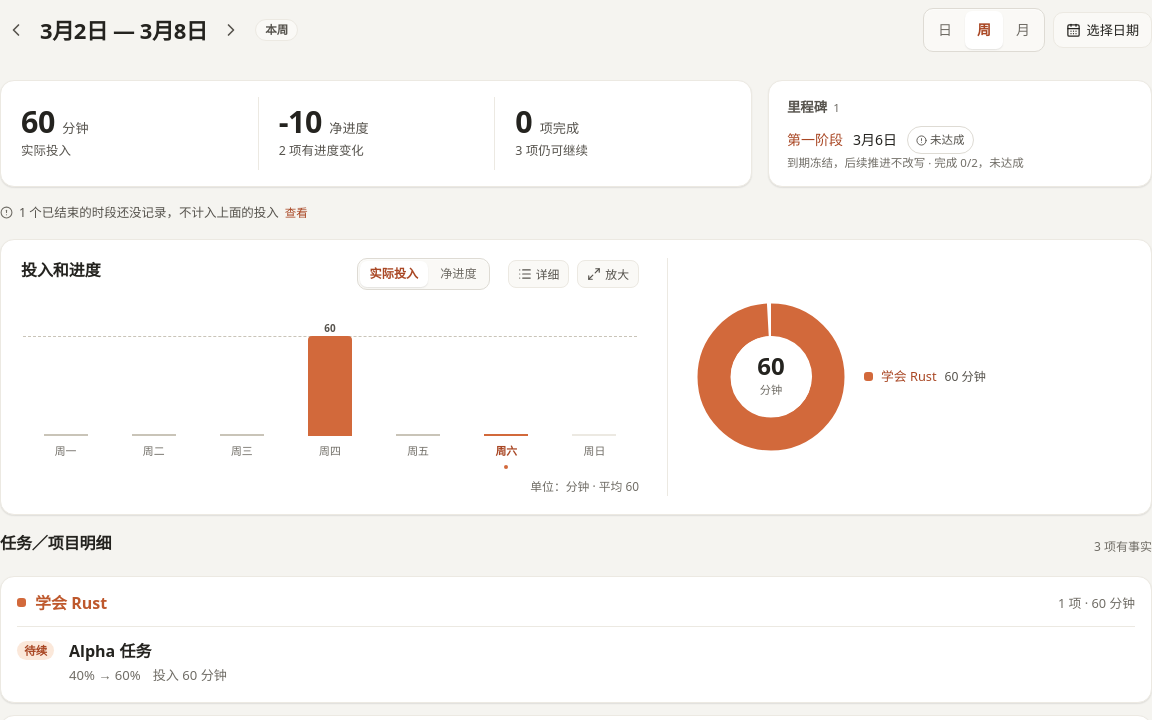
Scenario: review page › closes the list popover together with the detail opened from it
# 首屏「查看」开待回顾名单，名单里点任务名 → 明细叠在名单上面。
Click the button "查看": coordinates (296, 213) [285, 204, 308, 222]
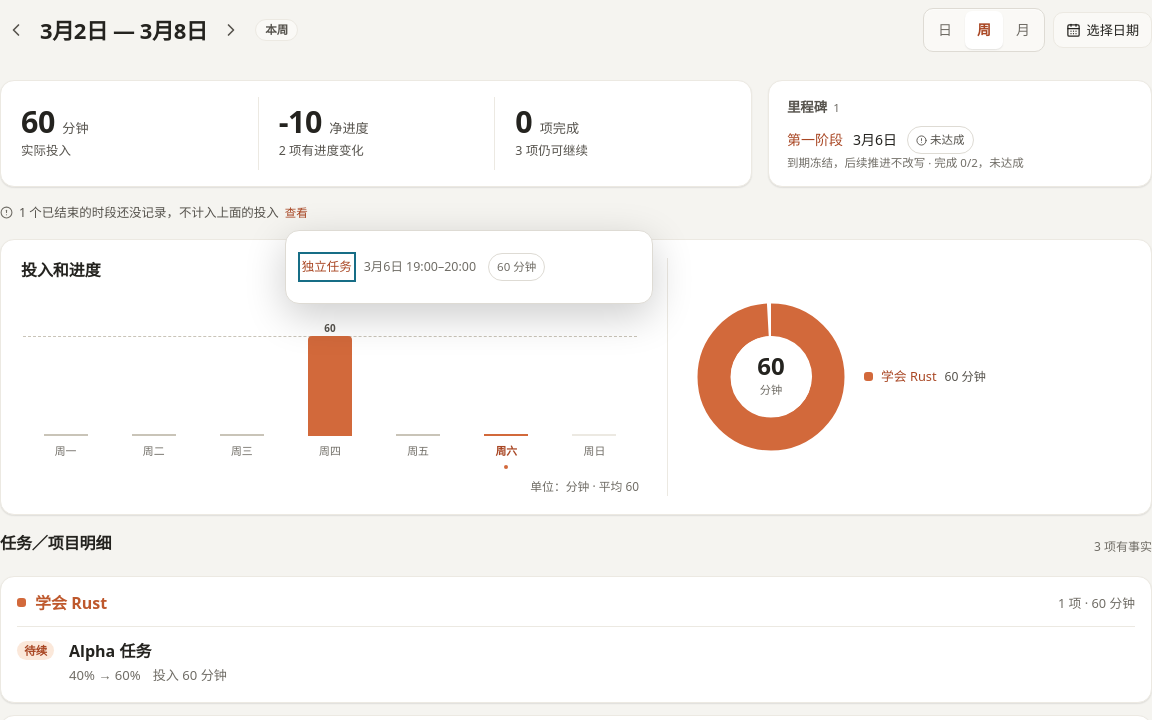
expect the dialog with class "review-headline-popover" is shown: met, box [285, 230, 653, 304]
Click the button with aria-label "查看任务「独立任务」的明细": coordinates (327, 267) [302, 256, 352, 278]
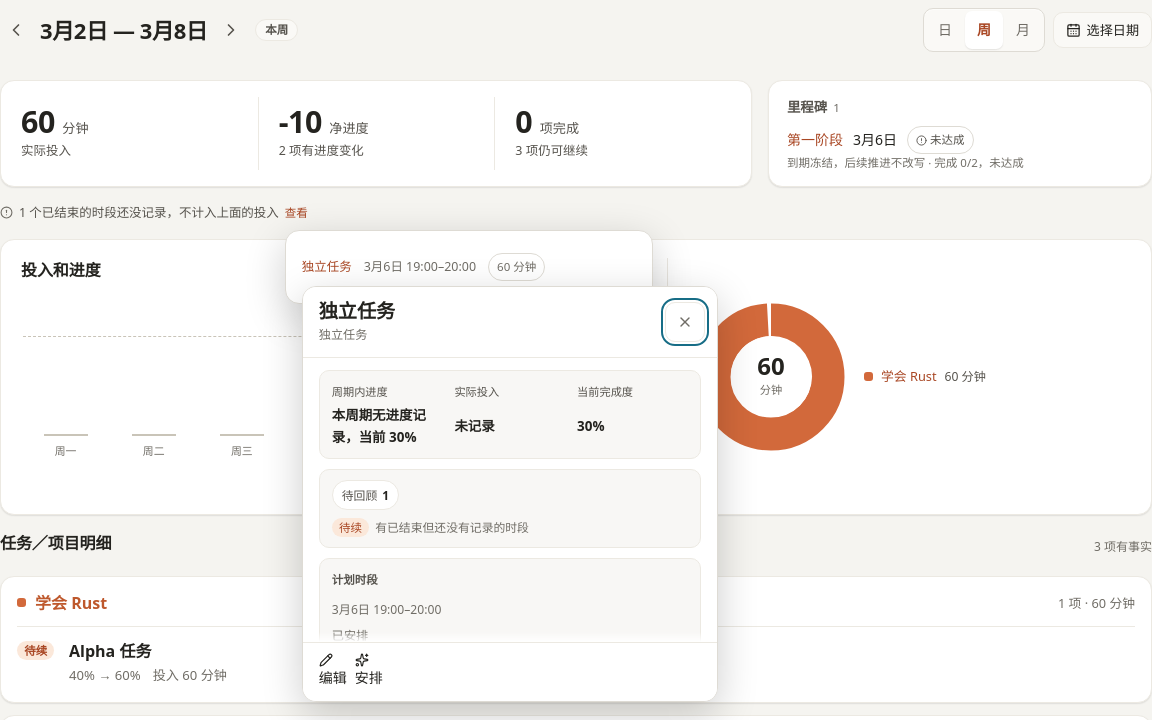
expect the number of dialogs with class "floating-panel" is 2: met, box [285, 230, 653, 304]; [302, 286, 718, 702]
expect the element with class "review-detail" is shown: met, box [303, 287, 717, 701]
# Esc 关明细时名单一起收起：只关掉上面那层会看起来像「点了没反应」。
Press Escape
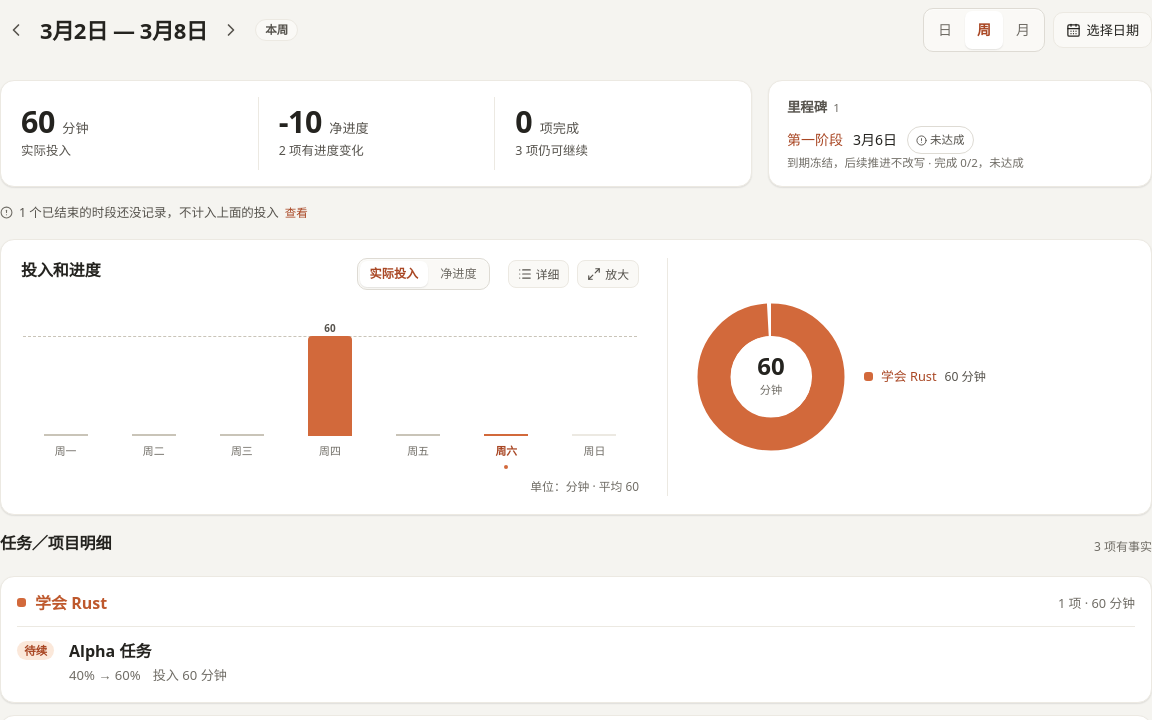
expect the element with class "review-detail" is gone: met
expect the dialog with class "review-headline-popover" is gone: met
